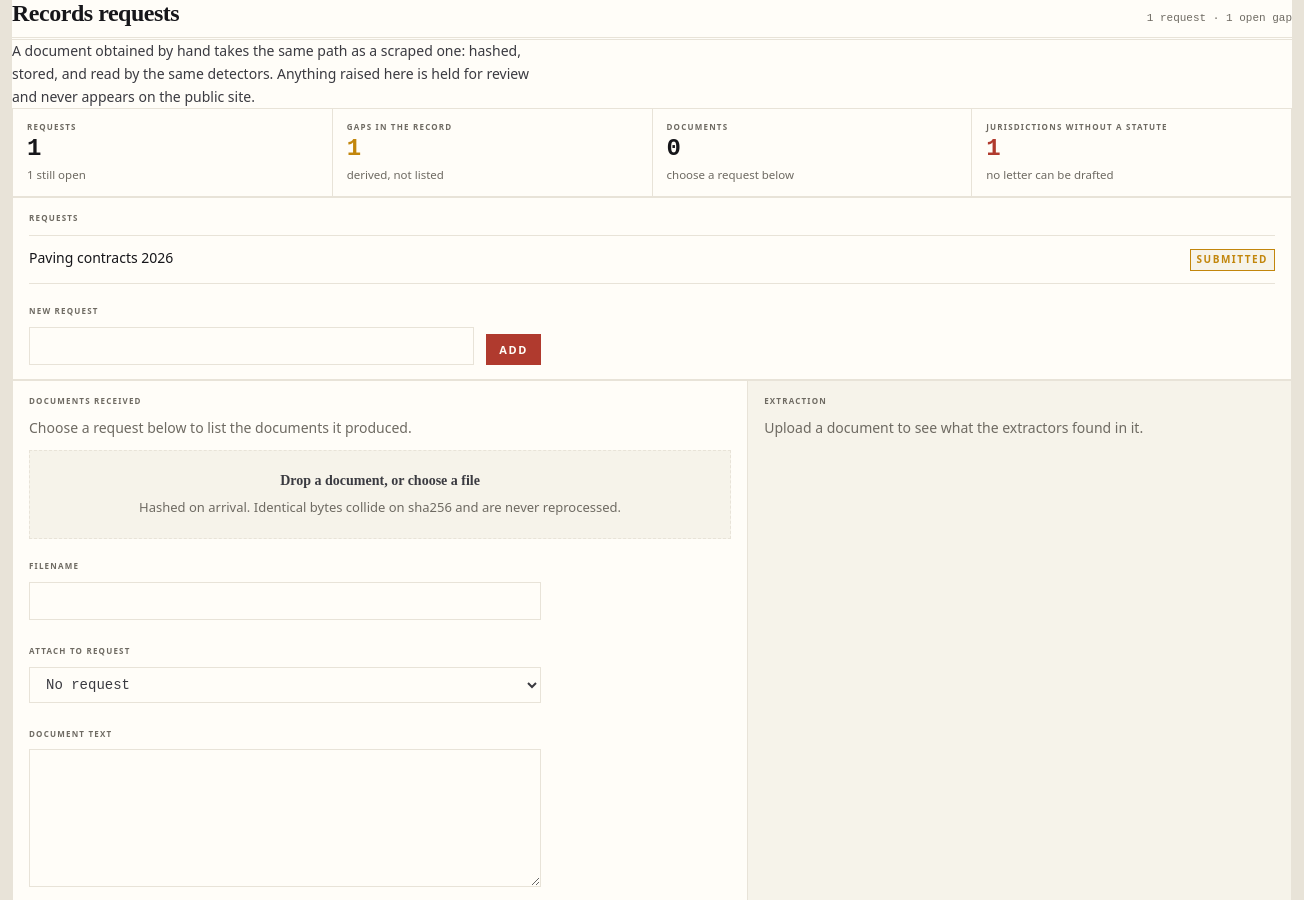
AdminRecordsPage › uploads a document and shows the extraction with per-field confidence
The image size is (1304, 900).
Type "award.txt" into the field labelled "Filename". click: [285, 601]
box: [29,582,541,620]
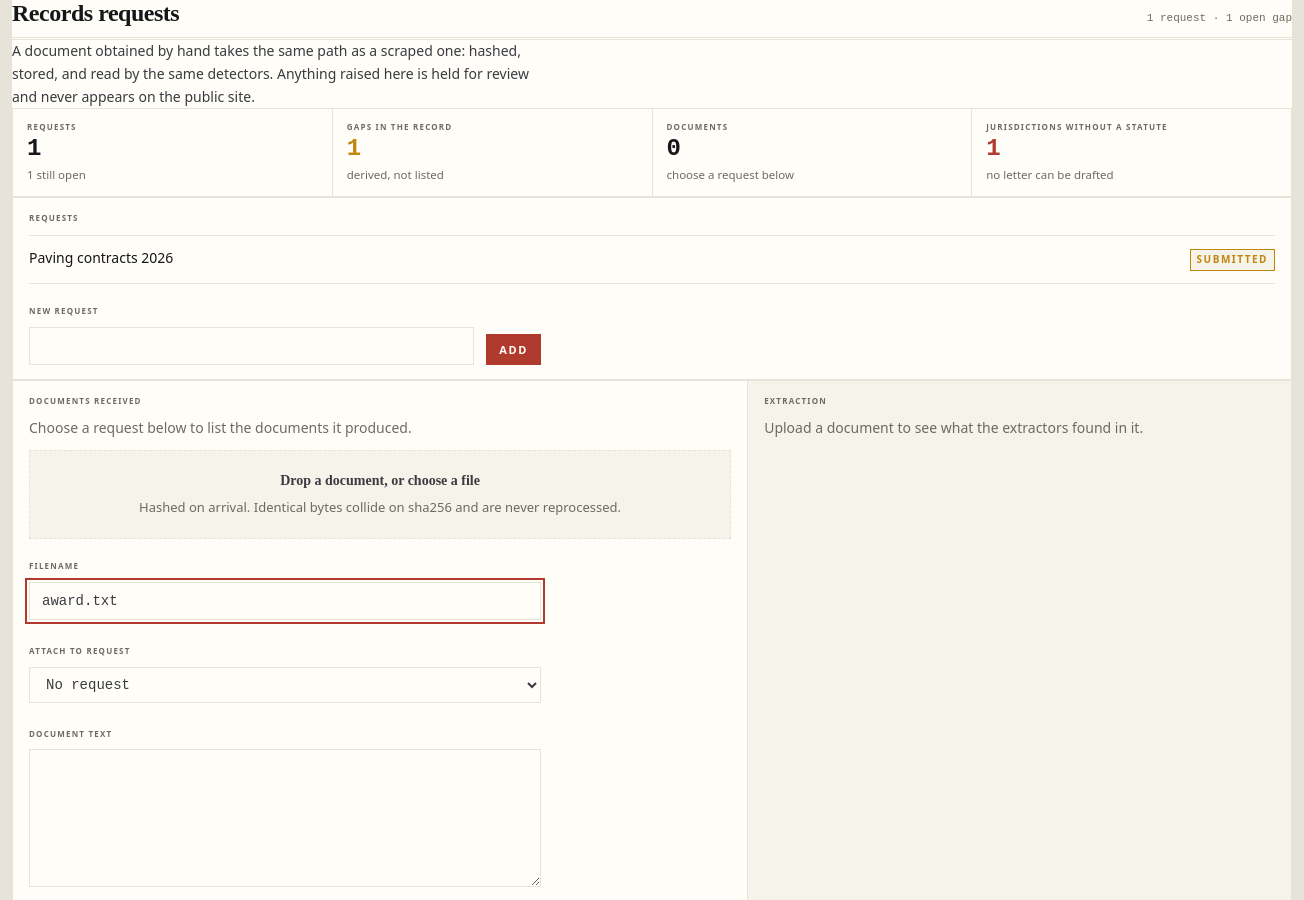
Type "A sole source award." into the text box labelled "Document text". click: [285, 818]
box: [29,750,541,888]
(page scrolled)
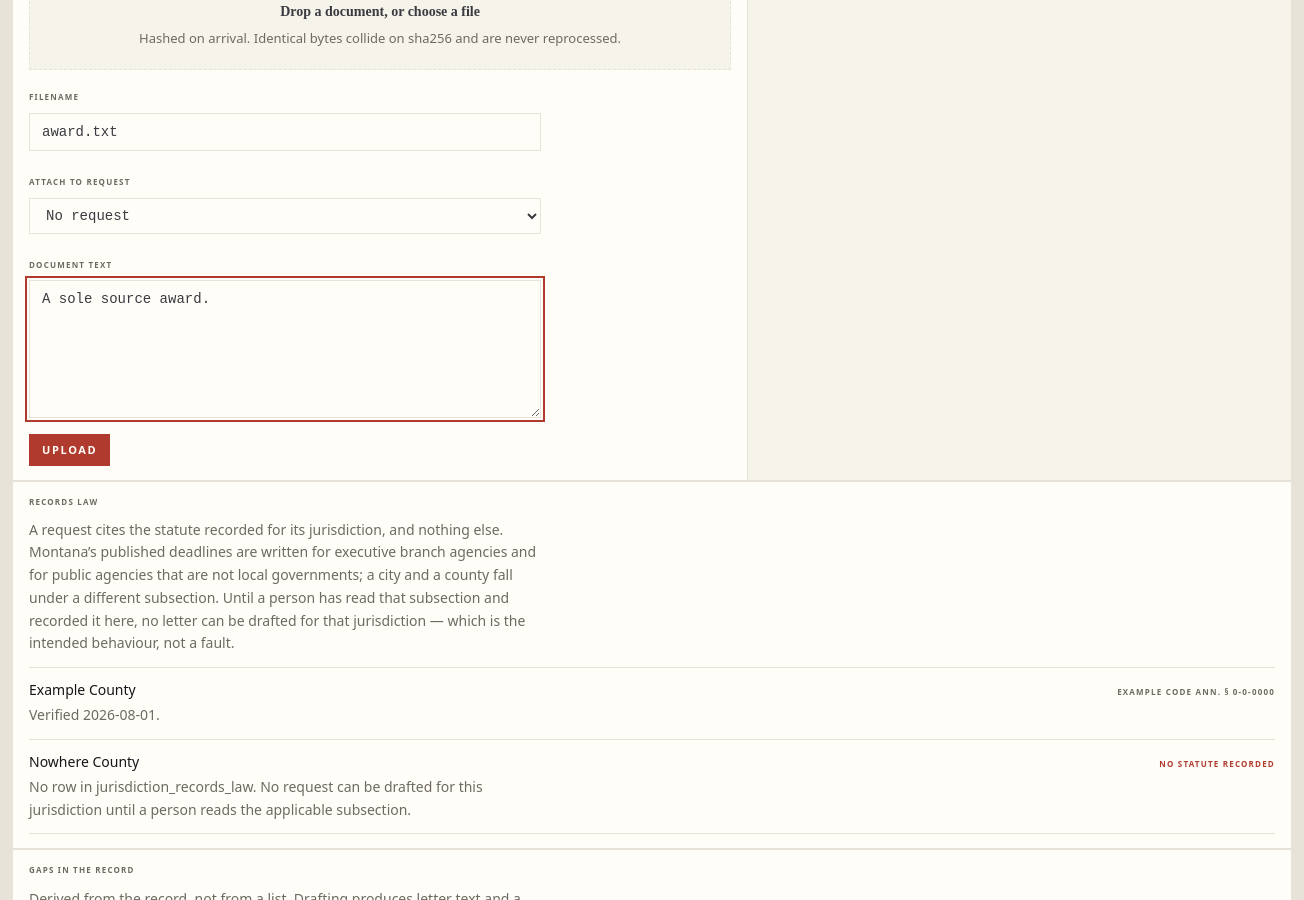
Click the button "Upload". click: [70, 450]
box: [29,434,110,466]
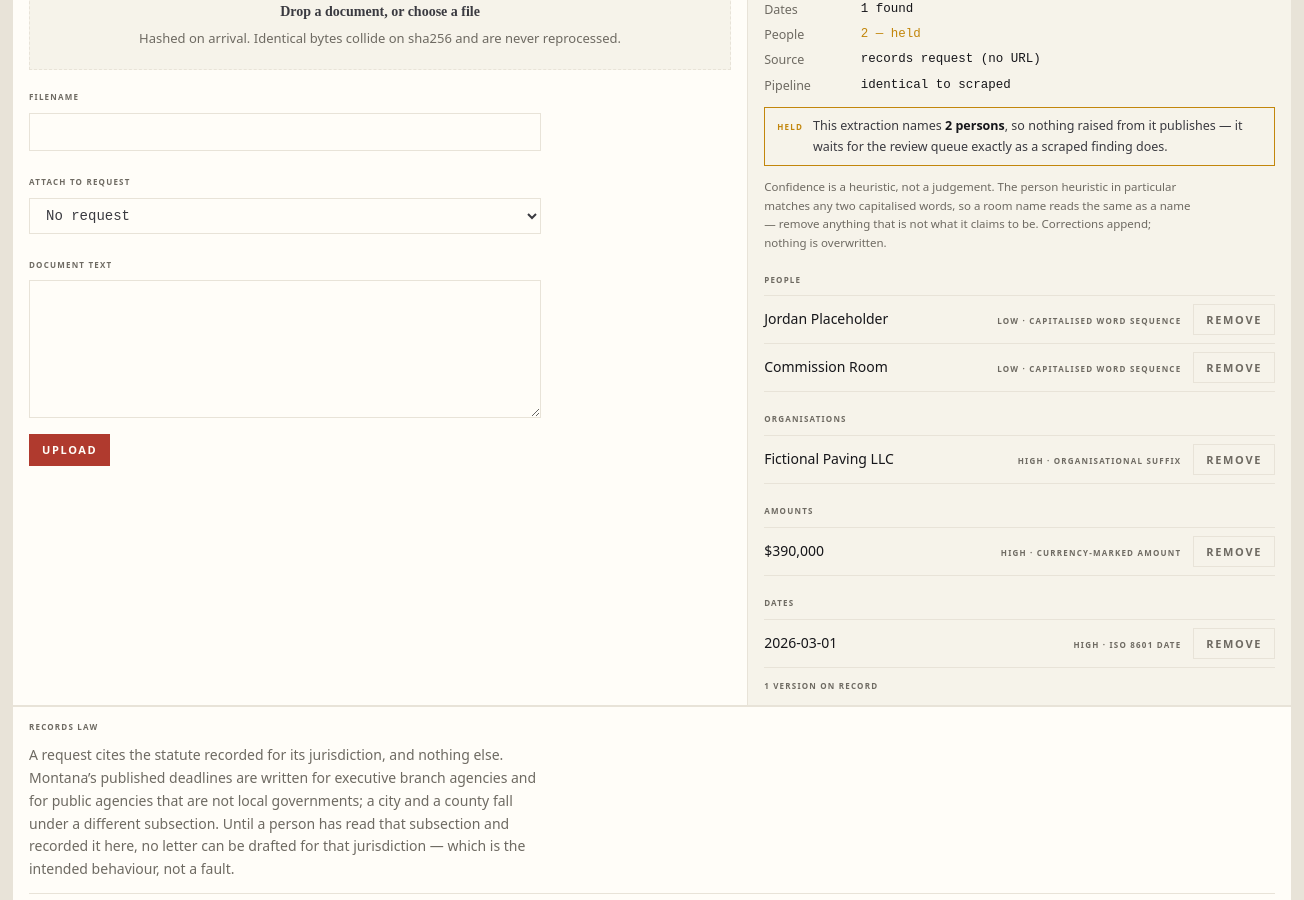
Result: the text "Jordan Placeholder" is shown at [764,309,888,329]
Result: the text "low · capitalised word sequence" is shown 2 times at [997,315,1181,327]; [997,363,1181,375]
Result: the text "high · organisational suffix" is shown at [1018,455,1181,466]
